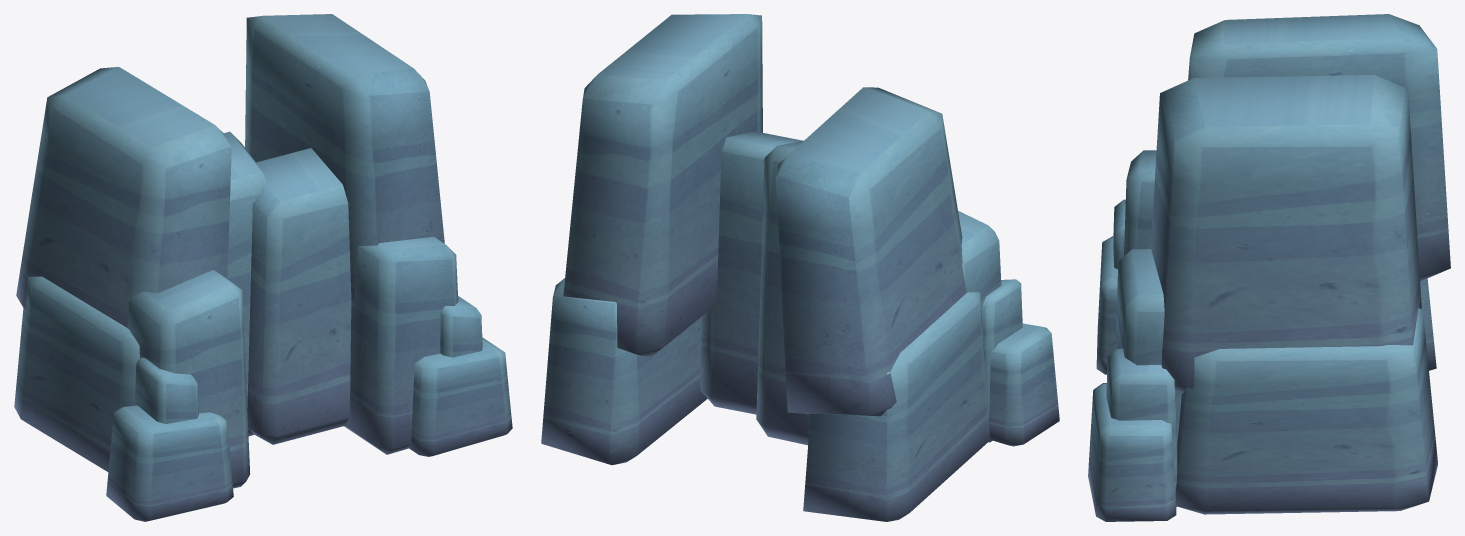
The model's file is cliffrocks.fbx.
3 renders of one model, left to right at view 1: azimuth 30°, elevation 25°; view 2: azimuth 150°, elevation 25°; view 3: azimuth 270°, elevation 25°, orthographic. The views are drawn at different scales.
Parts seen in each view (by area): view 1: cliffs4, cliffs1, cliffs5, cliffs3, cliffs2; view 2: cliffs4, cliffs1, cliffs5, cliffs3, cliffs2; view 3: cliffs4, cliffs1, cliffs3, cliffs2.
Part boxes in pixels (box(x1,y1,x2,y2)): cliffs4: box(16, 14, 444, 327); cliffs1: box(14, 274, 512, 521); cliffs5: box(224, 131, 351, 444); cliffs3: box(127, 236, 458, 488); cliffs2: box(134, 296, 482, 423); cliffs4: box(563, 14, 966, 416); cliffs1: box(541, 278, 1059, 521); cliffs5: box(700, 131, 810, 445); cliffs3: box(958, 211, 1001, 315); cliffs2: box(982, 279, 1022, 442); cliffs4: box(1150, 14, 1450, 393); cliffs1: box(1088, 236, 1437, 521); cliffs3: box(1115, 150, 1181, 442); cliffs2: box(1106, 199, 1177, 506).
Size of the model in its own units: 14.53 by 13.18 by 11.21.
